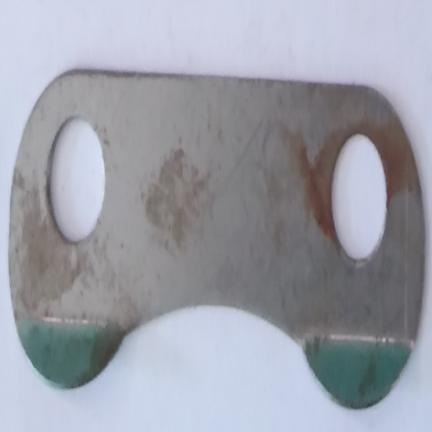besi_tidak_karat: (9, 69, 425, 407)
karat: (20, 191, 81, 311), (293, 124, 343, 240), (148, 153, 203, 244), (375, 116, 416, 201)
